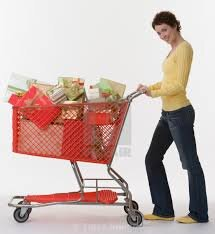with_basket: (3, 73, 146, 226)
without_mask: (151, 11, 183, 46)
